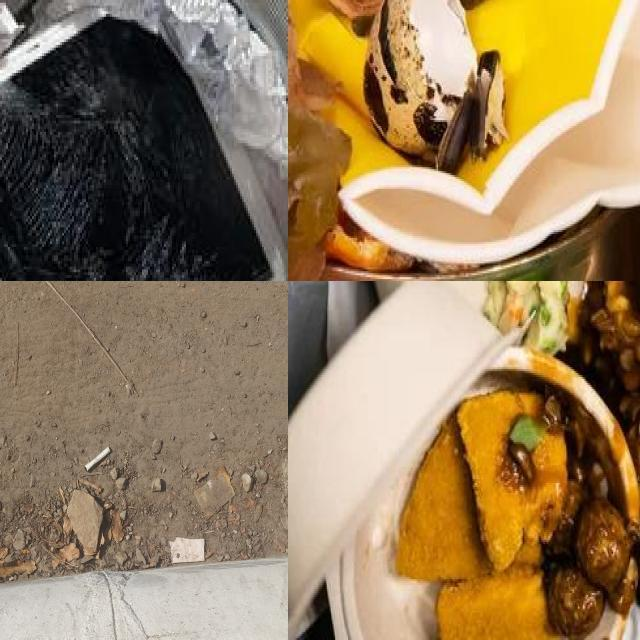Background: (0, 281, 288, 640)
Cig_bud: (84, 446, 111, 472)
Disposable: (288, 281, 640, 640), (327, 467, 445, 640)
E-Waste: (0, 9, 288, 281)
Garbage: (288, 281, 640, 640), (288, 0, 640, 281)
Metal: (317, 208, 640, 281)
Paper: (31, 0, 288, 180)
Plastic_wraper: (194, 467, 235, 518)
contaminated_waste: (290, 0, 640, 264)
top_view_waste: (0, 0, 288, 281)
